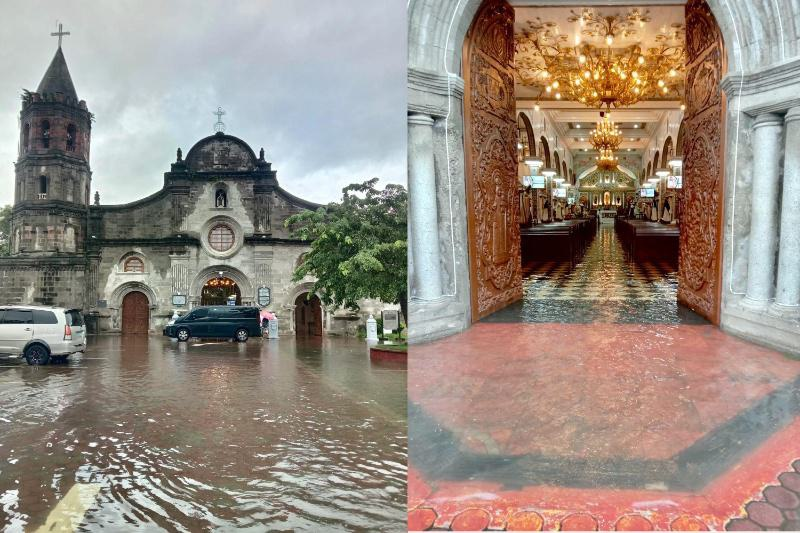barasoain_church_malolos_bulacan: (1, 18, 379, 336)
